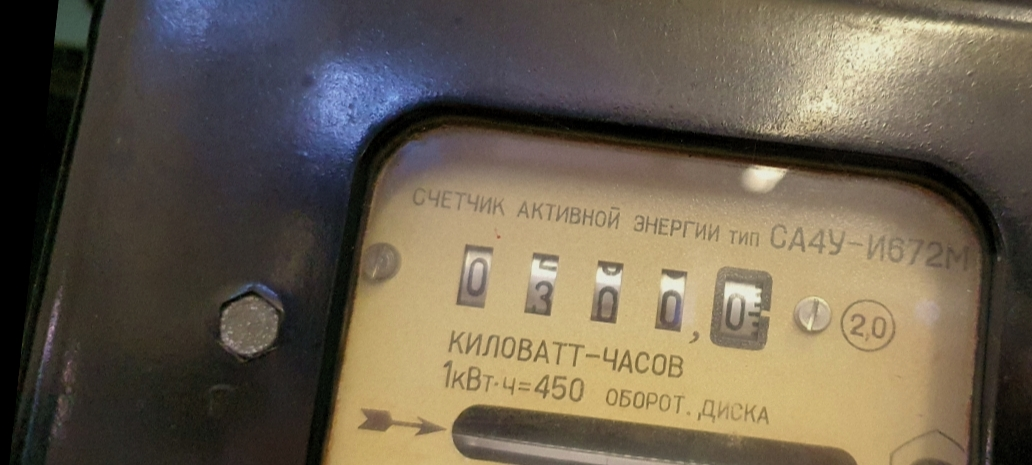0: (653, 286, 683, 332), (460, 253, 488, 301), (718, 289, 747, 334), (590, 282, 618, 325)
3: (526, 277, 553, 318)
screen: (430, 219, 794, 370)
